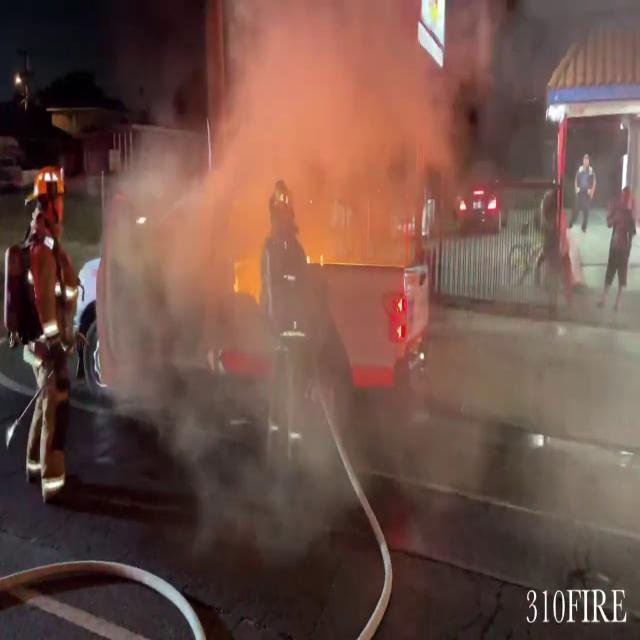Smoke: (88, 1, 530, 585)
